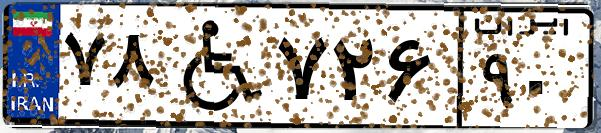0: (525, 38, 570, 115)
2: (330, 28, 385, 110)
6: (385, 28, 445, 110)
7: (270, 28, 330, 110), (57, 26, 110, 100)
8: (110, 28, 158, 98)
9: (475, 38, 525, 113)
ژ (معلولین و جانبازان): (158, 12, 270, 120)
